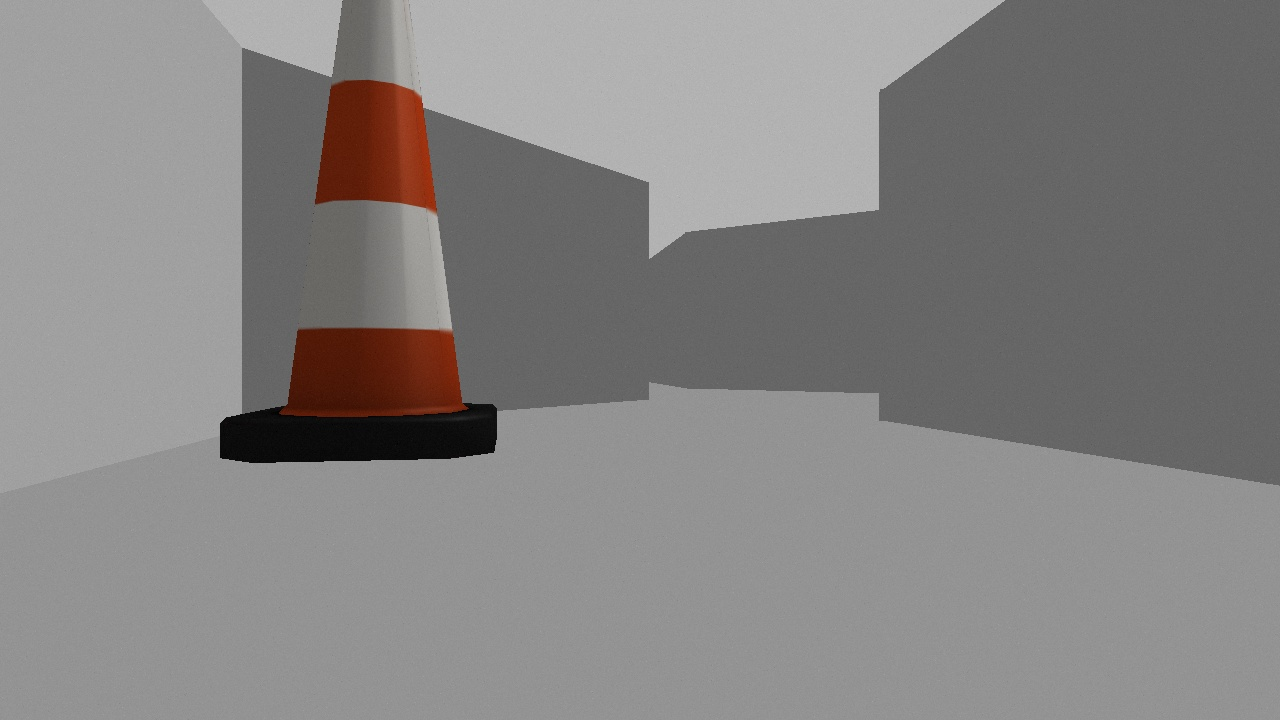barricade: (220, 2, 496, 463)
